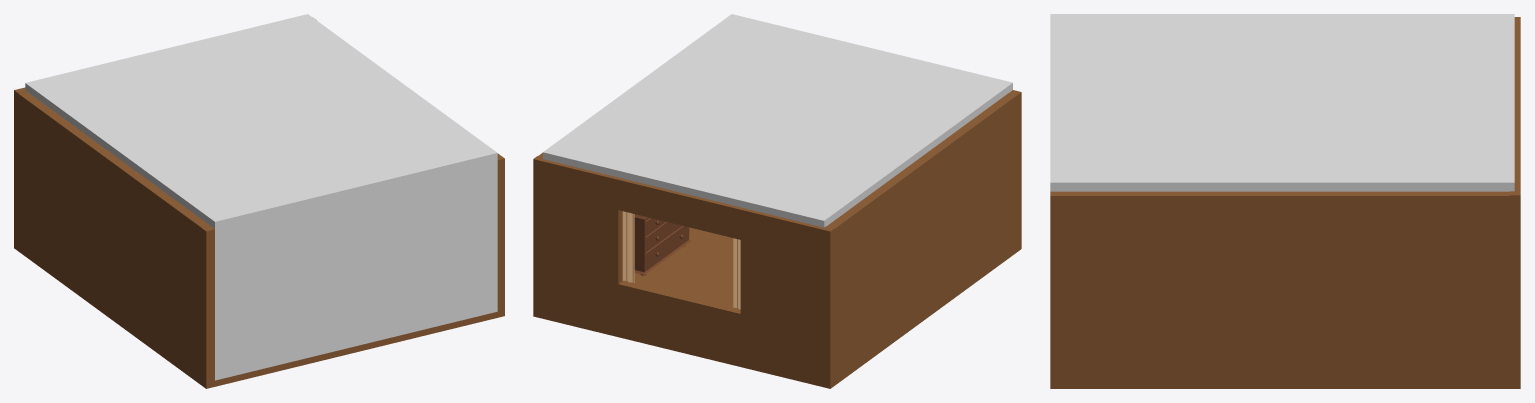
The model's file is bedroom.fbx.
The picture shows the model from 3 angles, left to right: view 1: azimuth 30°, elevation 25°; view 2: azimuth 150°, elevation 25°; view 3: azimuth 270°, elevation 25°; orthographic projection. The views are drawn at different scales.
Parts seen in each view (by area): view 1: Cube.001, Cube; view 2: Cube, Cube.001, Cylinder.002, Plane.001; view 3: Cube, Cube.001.
Boxes of the visible parts, bbox=[...] form: Cube.001: bbox=[25, 14, 497, 380]; Cube: bbox=[14, 19, 504, 388]; Cube: bbox=[533, 90, 1021, 388]; Cube.001: bbox=[543, 14, 1012, 227]; Cylinder.002: bbox=[634, 214, 691, 275]; Plane.001: bbox=[622, 211, 740, 309]; Cube: bbox=[1050, 17, 1520, 388]; Cube.001: bbox=[1050, 14, 1514, 191].
Bounding box in the file's own units: 1460 × 771 × 1628.
